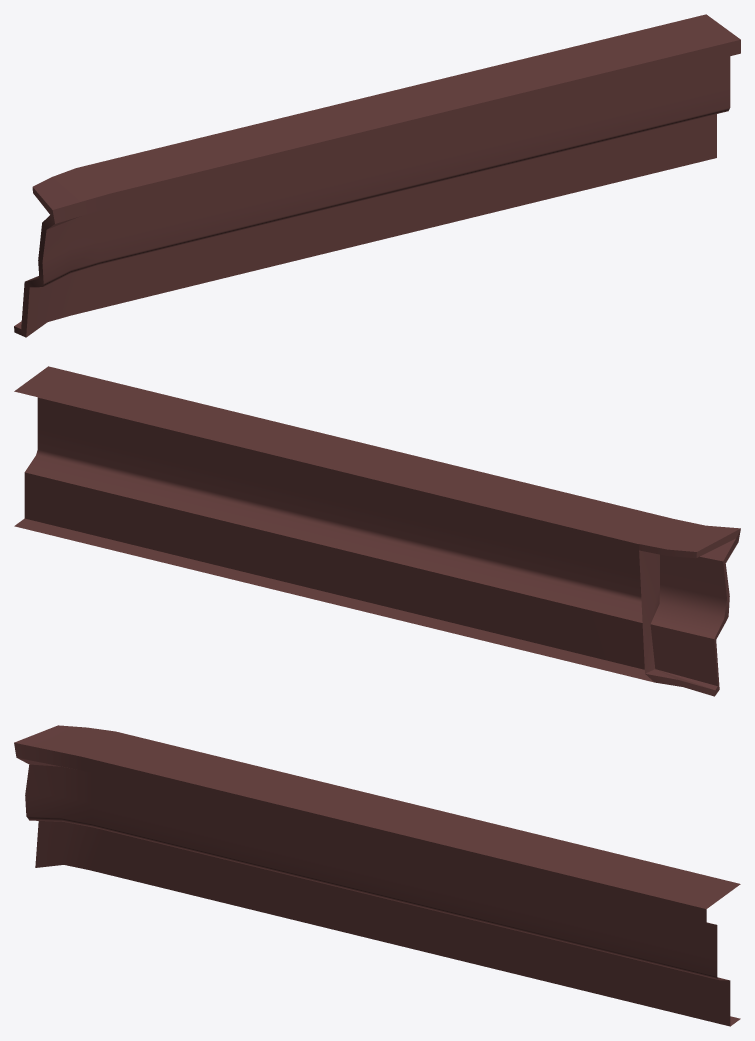
The model's file is DBK_Trim_B_End_Mirror.fbx.
The picture shows the model from 3 angles, top to bottom: view 1: azimuth 30°, elevation 25°; view 2: azimuth 150°, elevation 25°; view 3: azimuth 330°, elevation 25°; orthographic projection.
Visible parts, largest first — view 1: DBK_Trim_B_End_Mirror; view 2: DBK_Trim_B_End_Mirror; view 3: DBK_Trim_B_End_Mirror.
Part boxes in pixels (box(x1,y1,x2,y2)): DBK_Trim_B_End_Mirror: box(14, 14, 740, 337); DBK_Trim_B_End_Mirror: box(14, 366, 740, 696); DBK_Trim_B_End_Mirror: box(14, 725, 740, 1026).
Bounding box in the file's own units: 141 × 27.87 × 13.81.
